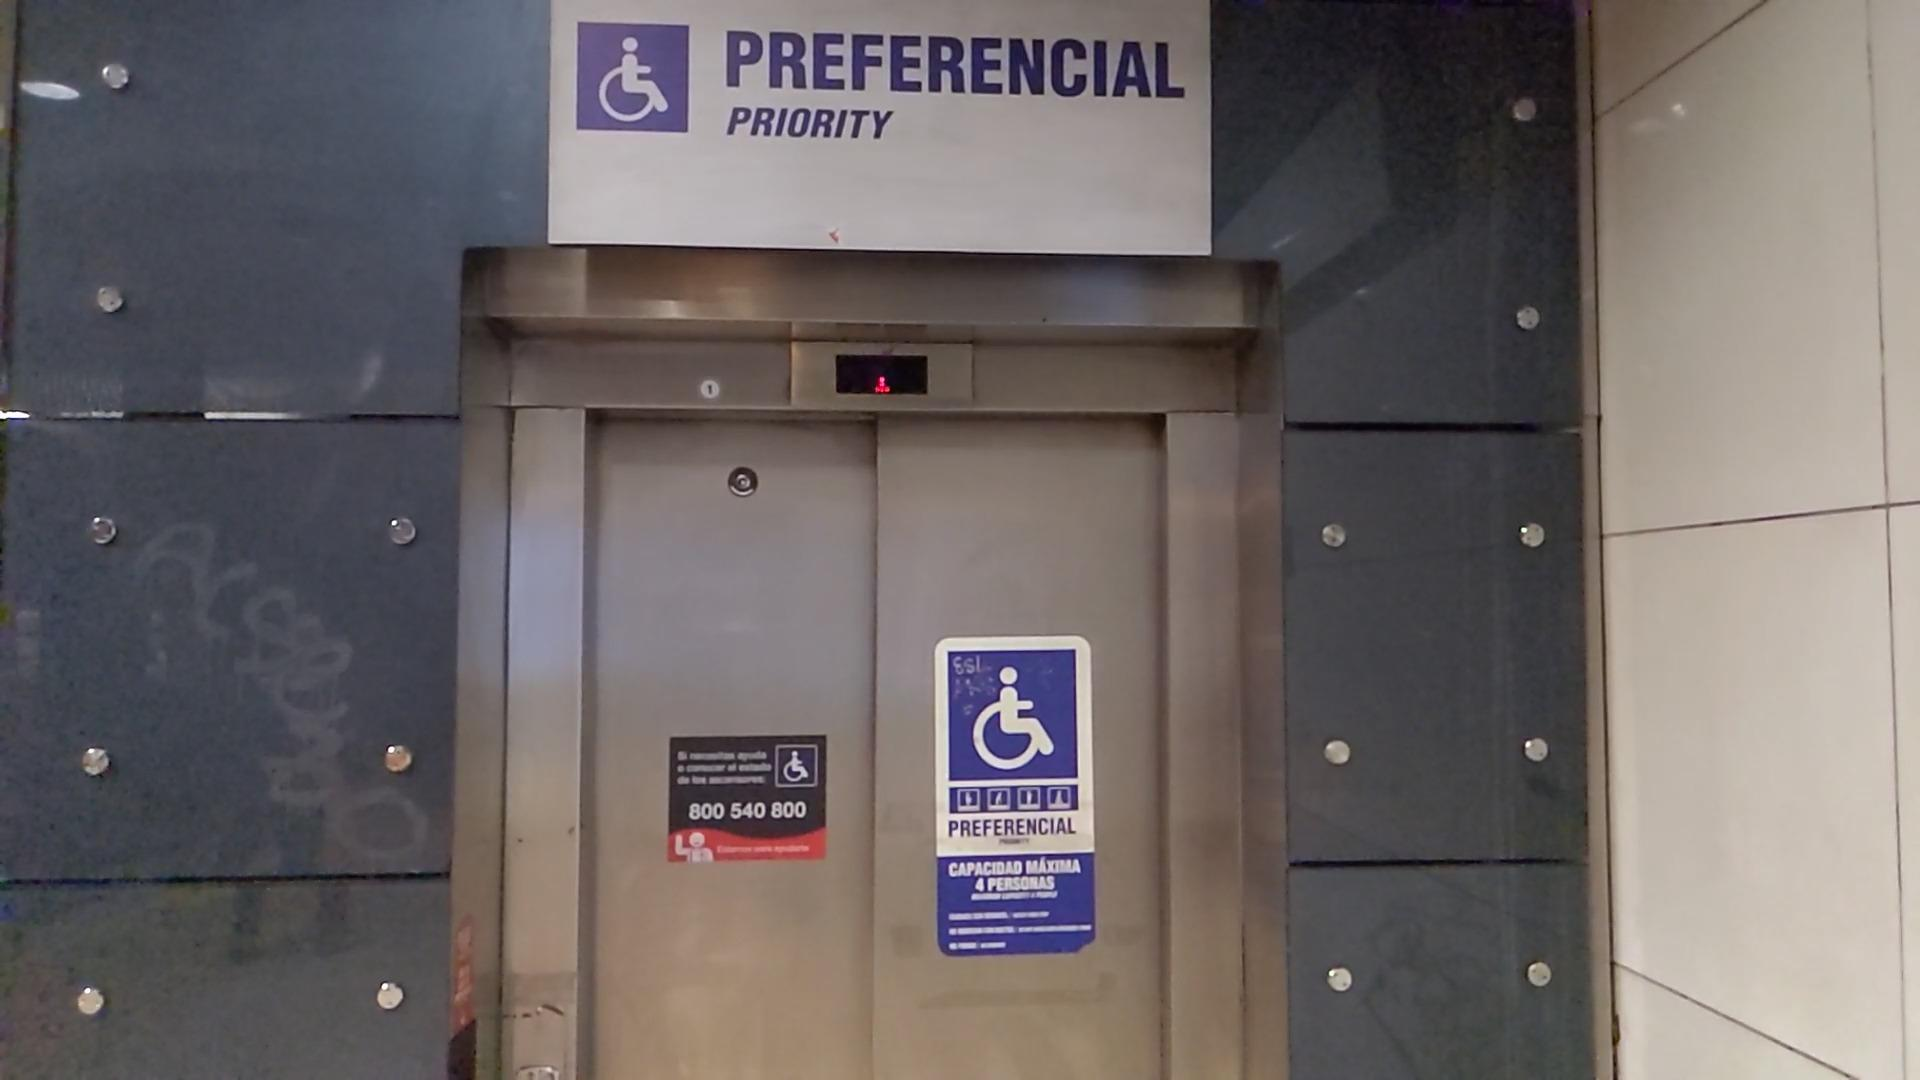handicapped symbol: (971, 663, 1056, 771), (595, 33, 673, 124), (781, 748, 814, 783)
